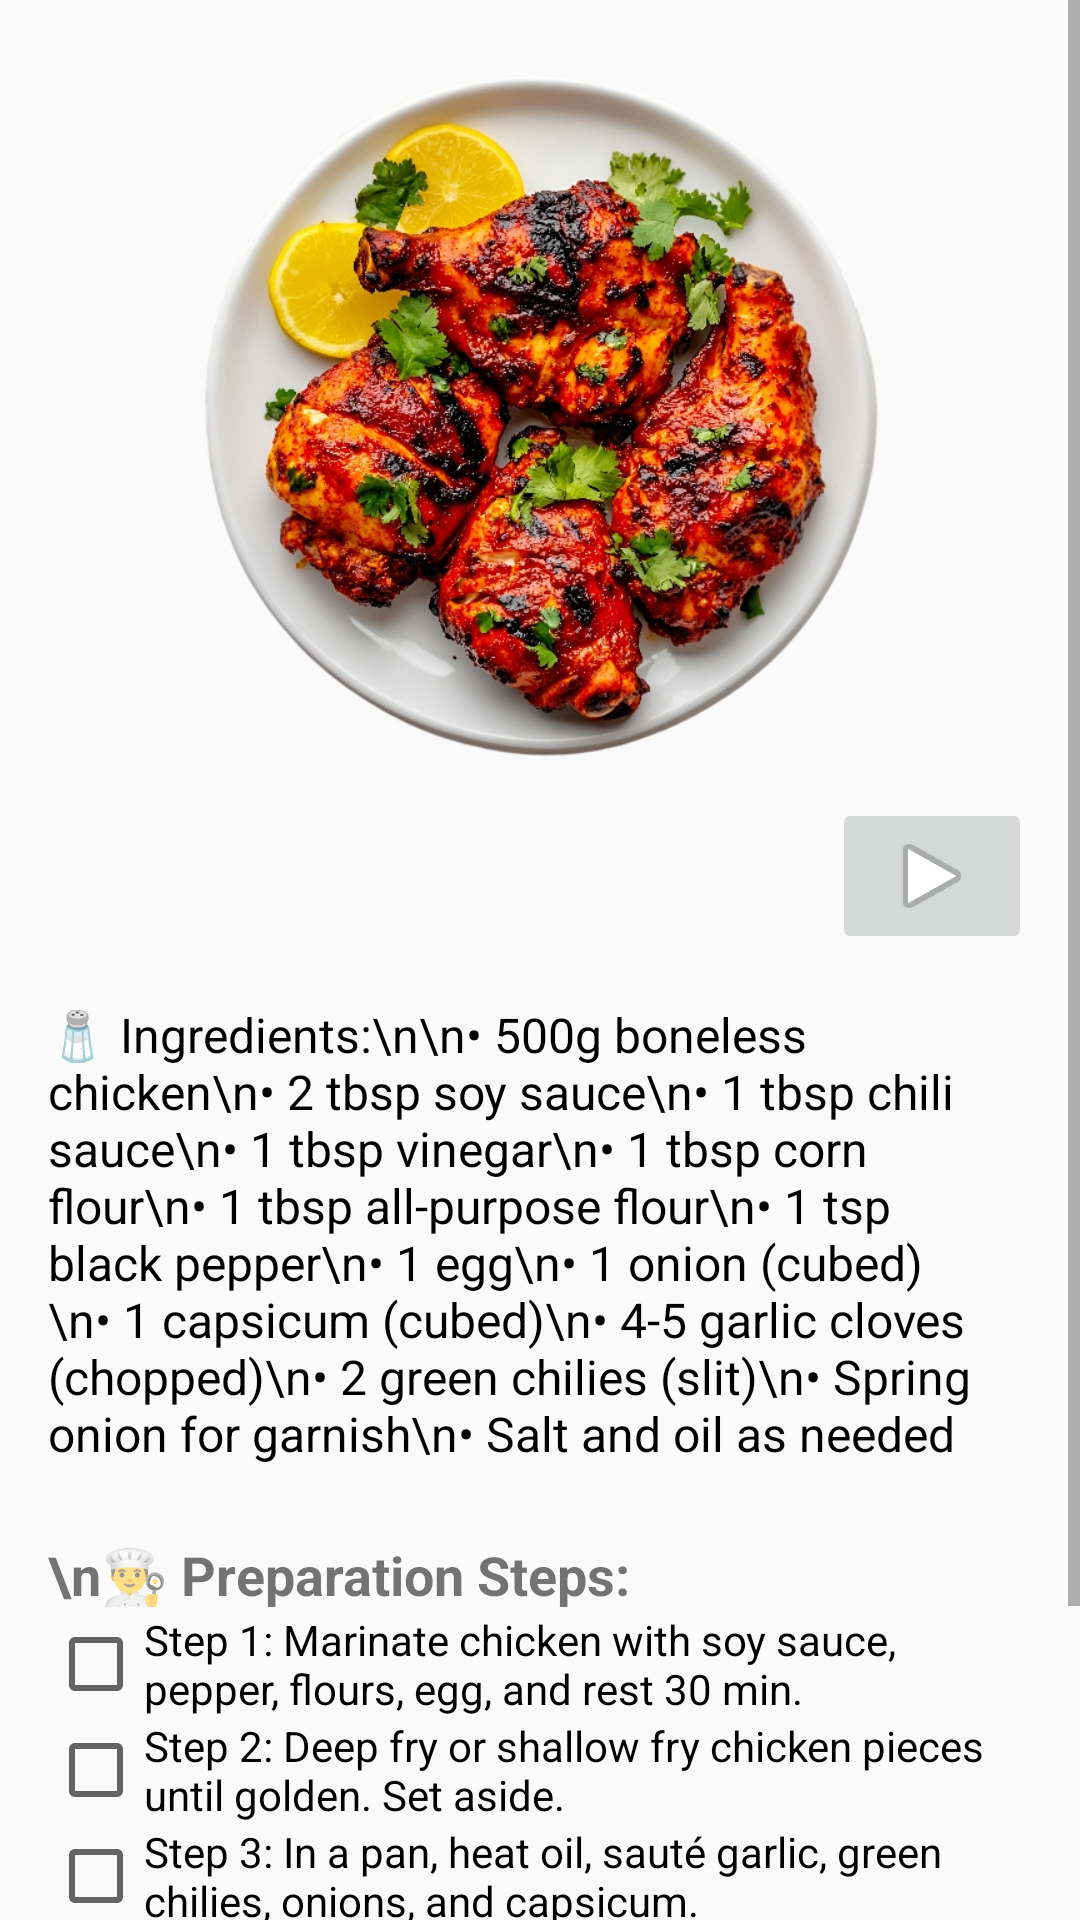

Icons on this 1080 x 1920 Android screen, each with its box as BBox(x1, y1, x2, y2):
play: BBox(844, 816, 1020, 936)
